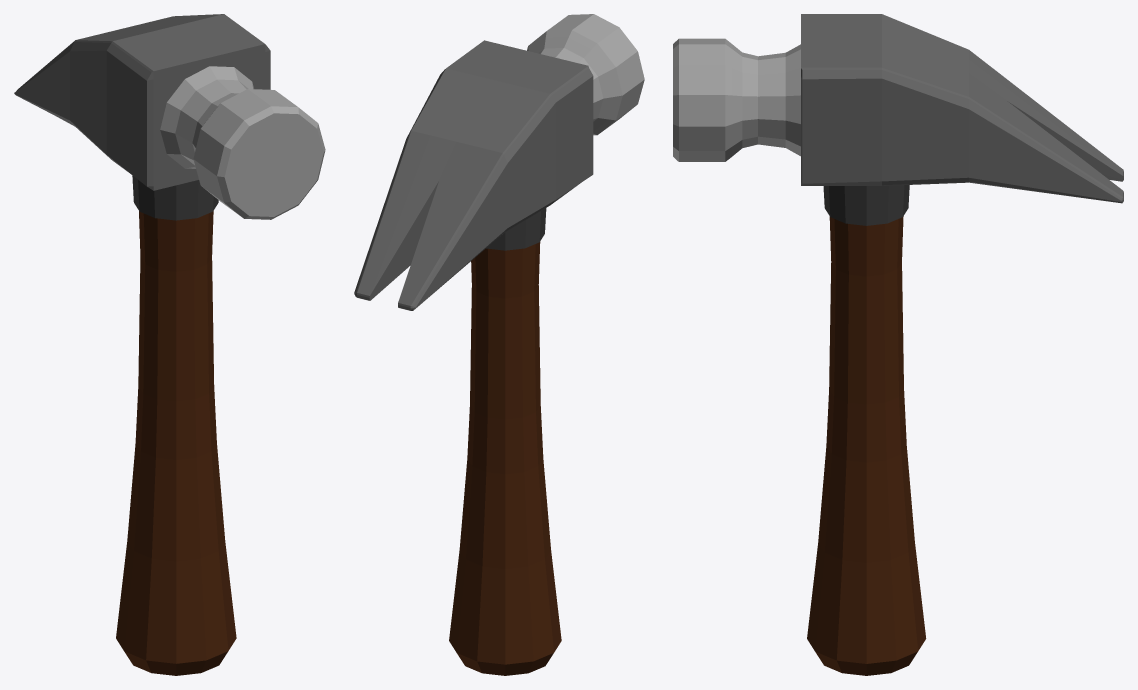
The model's file is G3_Prop_Martelo_1.fbx.
3 renders of one model, left to right at view 1: azimuth 30°, elevation 25°; view 2: azimuth 150°, elevation 25°; view 3: azimuth 270°, elevation 25°, orthographic. The views are drawn at different scales.
Parts seen in each view (by area): view 1: Circle.004; view 2: Circle.004; view 3: Circle.004.
Part boxes in pixels (bbox=[...]): Circle.004: bbox=[14, 14, 325, 675]; Circle.004: bbox=[354, 14, 644, 675]; Circle.004: bbox=[673, 14, 1123, 675].
Bounding box in the file's own units: 217 × 1040 × 691.
